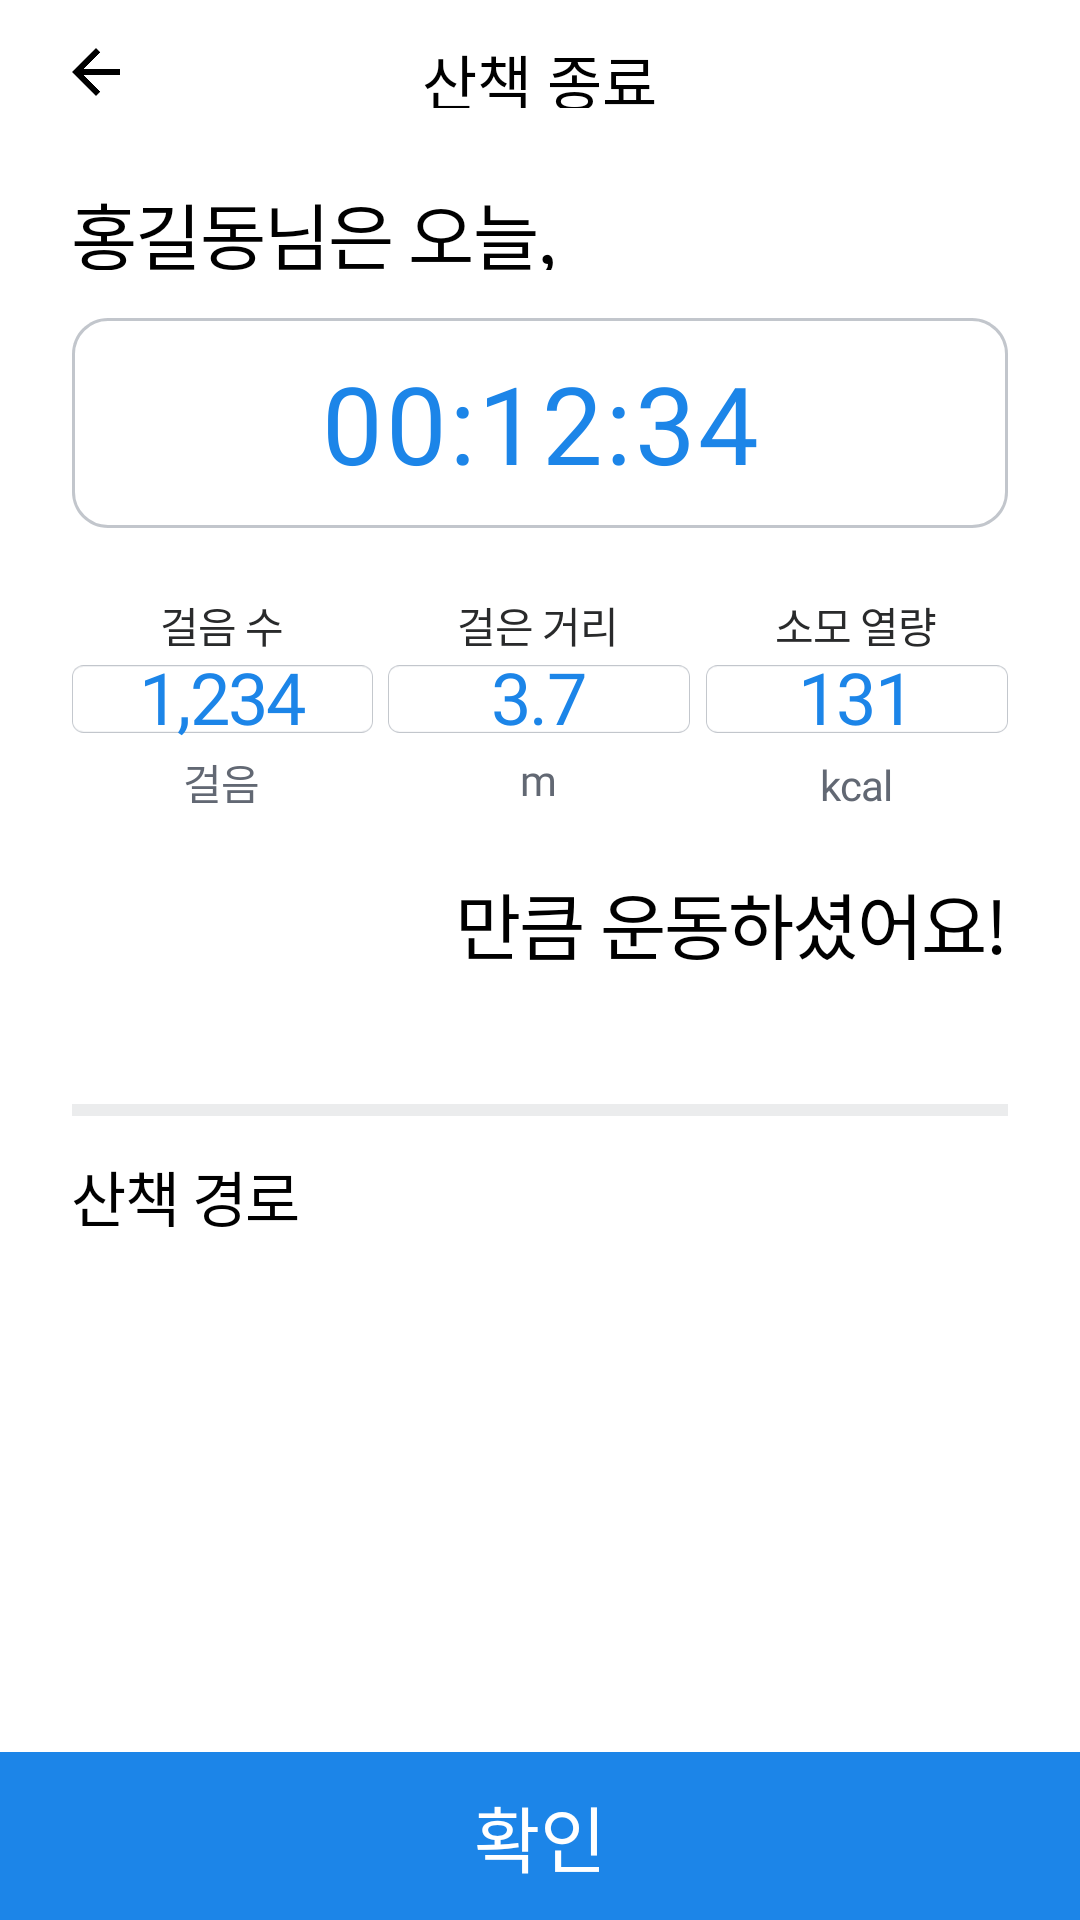

Locate icon controls on the screen. Image size 1080 × 1920, boxes as BBox(x1, y1, x2, y2).
arrow back: BBox(72, 48, 120, 96)
